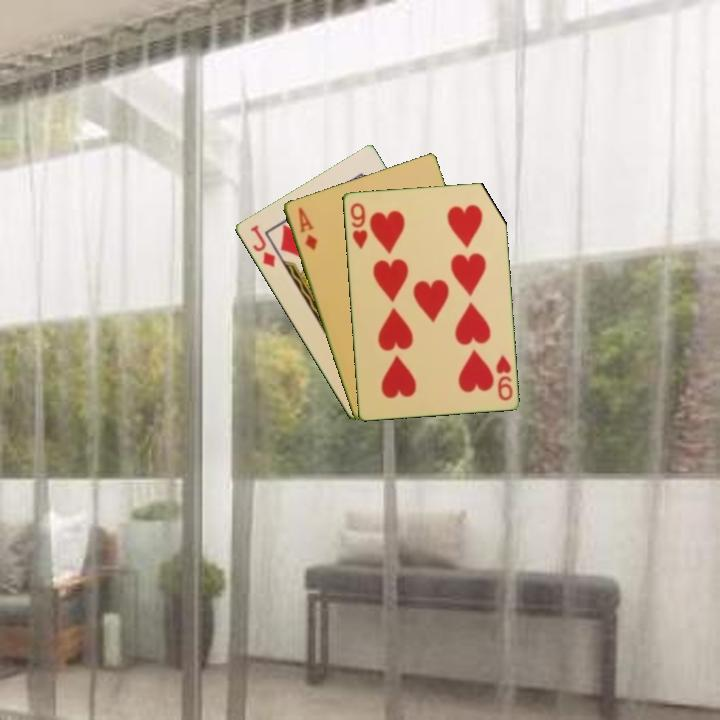9h: (347, 199, 370, 252), (492, 351, 515, 403)
Ad: (294, 204, 320, 254)
Jd: (247, 221, 278, 270)
